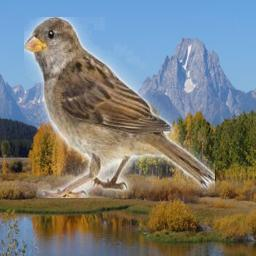Sparrow: (24, 17, 215, 198)
